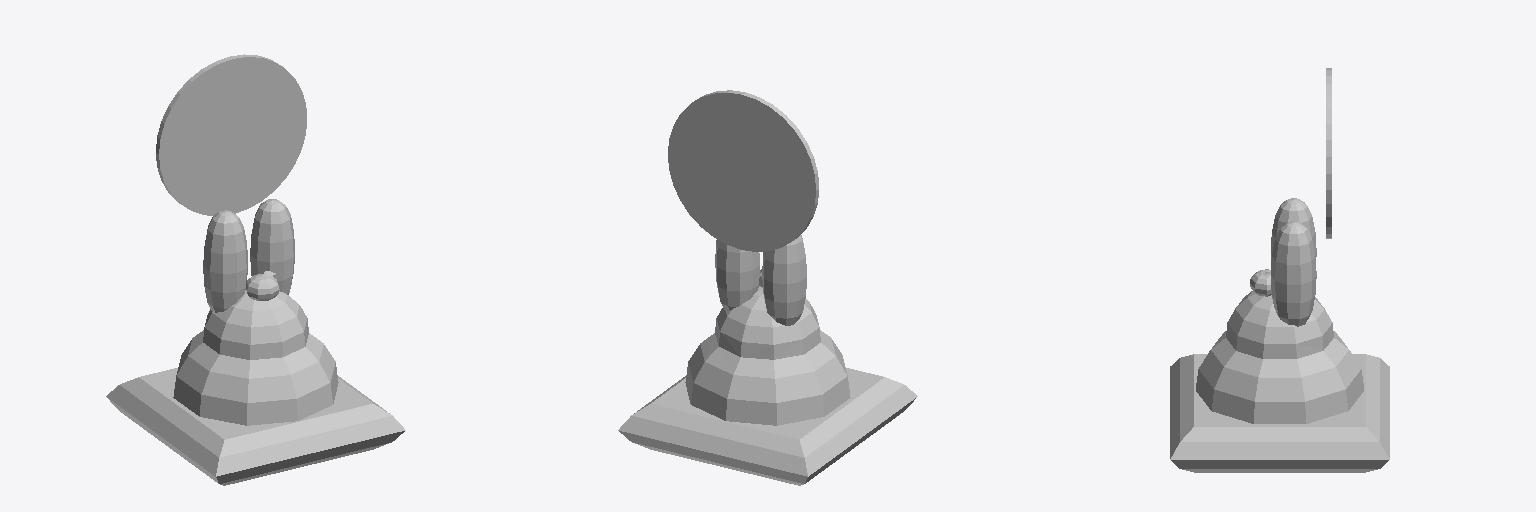
The model's file is mikan20.obj.
3 views of the same model, side by side, from view 1: azimuth 30°, elevation 25°; view 2: azimuth 150°, elevation 25°; view 3: azimuth 270°, elevation 25° (orthographic).
Visible parts, largest first — view 1: Circle, Circle.001; view 2: Circle, Circle.001; view 3: Circle, Circle.001.
Boxes of the visible parts, box(x1,y1,x2,y2) form: Circle: box(106, 199, 405, 485); Circle.001: box(156, 54, 306, 215); Circle: box(618, 235, 917, 485); Circle.001: box(668, 90, 818, 251); Circle: box(1170, 198, 1389, 472); Circle.001: box(1326, 68, 1331, 238).
Size of the model in its own units: 2.56 by 4.64 by 2.56.